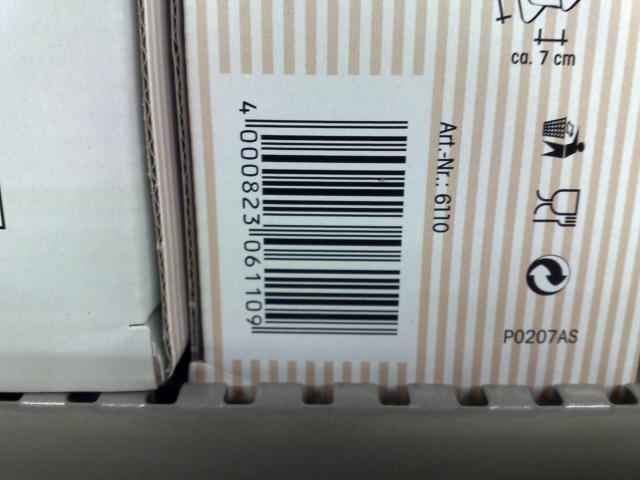Barkod: (258, 114, 406, 336)
